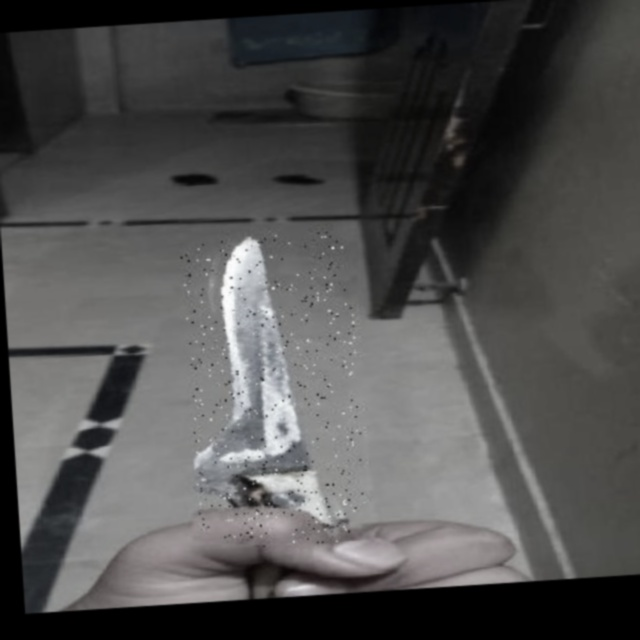Sharp-Object: (181, 231, 369, 551)
